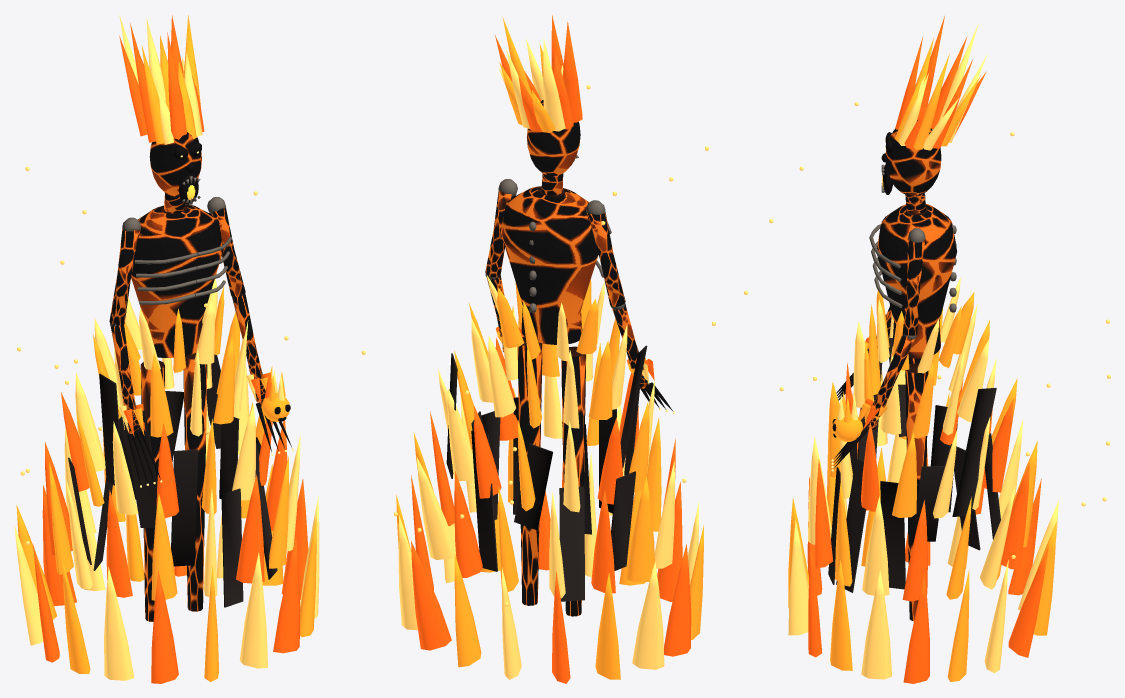
The model's file is ember_spirit.glb.
3 views of the same model, side by side, from view 1: azimuth 30°, elevation 25°; view 2: azimuth 150°, elevation 25°; view 3: azimuth 270°, elevation 25° (orthographic). The views are drawn at different scales.
Parts seen in each view (by area): view 1: Ember_Root_FlameYellow, Ember_Root_FlameOrange, Ember_Root_FlameRed, Ember_Root_ScorchedRag, Body, Tail_FlameYellow, LegLegB, Head_FlameRed, ArmA_EmberCore, Tail_ScorchedRag, Tail_FlameOrange, Tail_FlameRed (+10 smaller); view 2: Tail_FlameYellow, Ember_Root_FlameOrange, Body, Ember_Root_FlameYellow, Ember_Root_FlameRed, Tail_FlameRed, Tail_FlameOrange, Tail_ScorchedRag, Ember_Root_ScorchedRag, LegLegB, Head_FlameRed, Head_EmberCore (+5 smaller); view 3: Ember_Root_FlameYellow, Ember_Root_FlameOrange, Ember_Root_FlameRed, Ember_Root_ScorchedRag, Tail_FlameYellow, Body, Tail_FlameRed, Tail_FlameOrange, Tail_ScorchedRag, Head_EmberCore, Head_FlameRed, ArmB_EmberCore (+5 smaller).
Part boxes in pixels (box(x1,y1,x2,y2)): Ember_Root_FlameYellow: box(14, 167, 365, 680); Ember_Root_FlameOrange: box(49, 286, 316, 681); Ember_Root_FlameRed: box(33, 392, 308, 683); Ember_Root_ScorchedRag: box(68, 373, 277, 607); Body: box(131, 204, 223, 357); Tail_FlameYellow: box(64, 298, 223, 590); LegLegB: box(183, 353, 207, 611); Head_FlameRed: box(119, 15, 204, 142); ArmA_EmberCore: box(109, 228, 140, 433); Tail_ScorchedRag: box(93, 354, 221, 570); Tail_FlameOrange: box(16, 358, 144, 619); Tail_FlameRed: box(42, 442, 186, 605); Tail_FlameYellow: box(398, 303, 580, 679); Ember_Root_FlameOrange: box(396, 280, 703, 639); Body: box(501, 186, 598, 344); Ember_Root_FlameYellow: box(394, 85, 715, 669); Ember_Root_FlameRed: box(411, 337, 691, 656); Tail_FlameRed: box(411, 406, 615, 683); Tail_FlameOrange: box(454, 287, 620, 679); Tail_ScorchedRag: box(446, 353, 584, 601); Ember_Root_ScorchedRag: box(471, 345, 647, 570); LegLegB: box(517, 336, 542, 605); Head_FlameRed: box(495, 15, 582, 131); Head_EmberCore: box(526, 100, 580, 195); Ember_Root_FlameYellow: box(744, 102, 1110, 679); Ember_Root_FlameOrange: box(788, 290, 971, 681); Ember_Root_FlameRed: box(807, 362, 963, 683); Ember_Root_ScorchedRag: box(828, 314, 957, 592); Tail_FlameYellow: box(940, 277, 1058, 673); Body: box(877, 204, 957, 358); Tail_FlameRed: box(975, 399, 1048, 657); Tail_FlameOrange: box(938, 292, 1056, 635); Tail_ScorchedRag: box(950, 387, 1000, 550); Head_EmberCore: box(885, 120, 941, 213); Head_FlameRed: box(895, 16, 986, 148); ArmB_EmberCore: box(867, 237, 925, 430).
Bounding box in the file's own units: 0.9045 × 1.9 × 1.06.
Materials: 9 (1 with a texture image).
